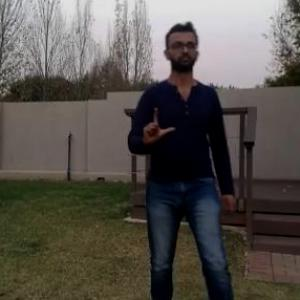land_hand: (138, 99, 183, 149)
